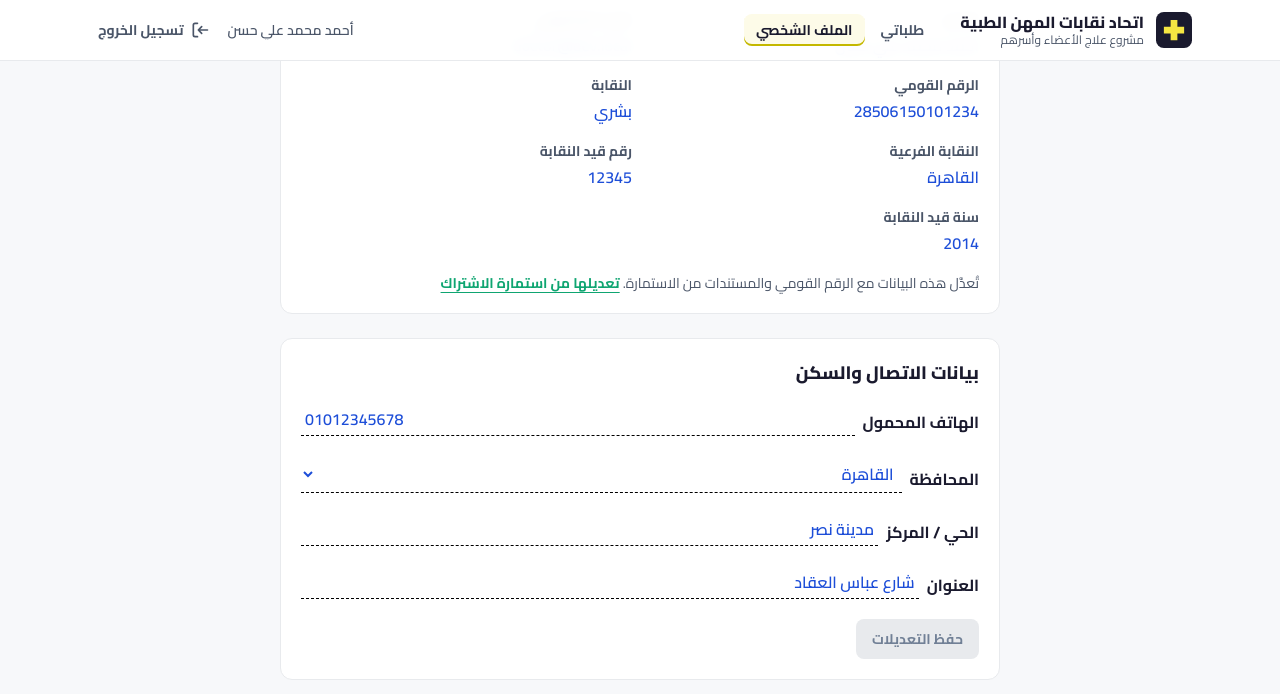
Test: ProfilePage › explains a locked profile (submitted application) with the server message
This screenshot has width=1280, height=694.
(page scrolled)
Type " أول" into the field labelled "الحي / المركز" at [590, 530], box left=301, top=513, right=878, bottom=546
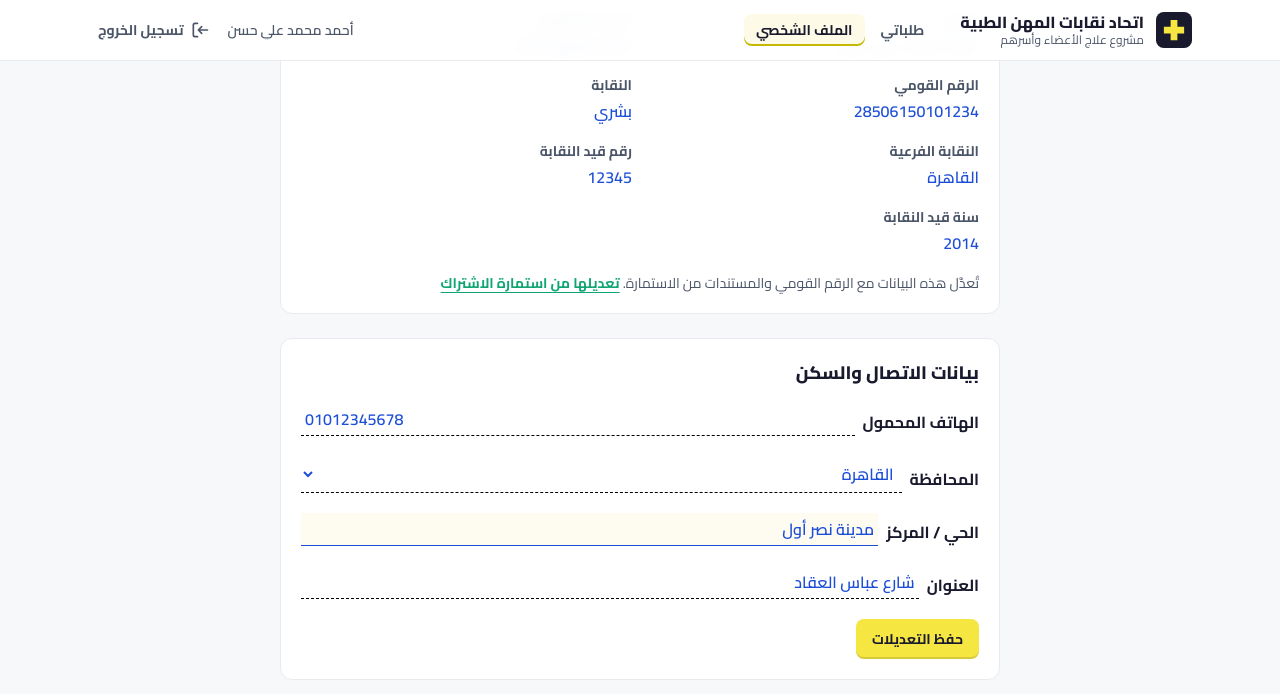
Click the button "حفظ التعديلات" at [918, 639], box left=856, top=619, right=979, bottom=659
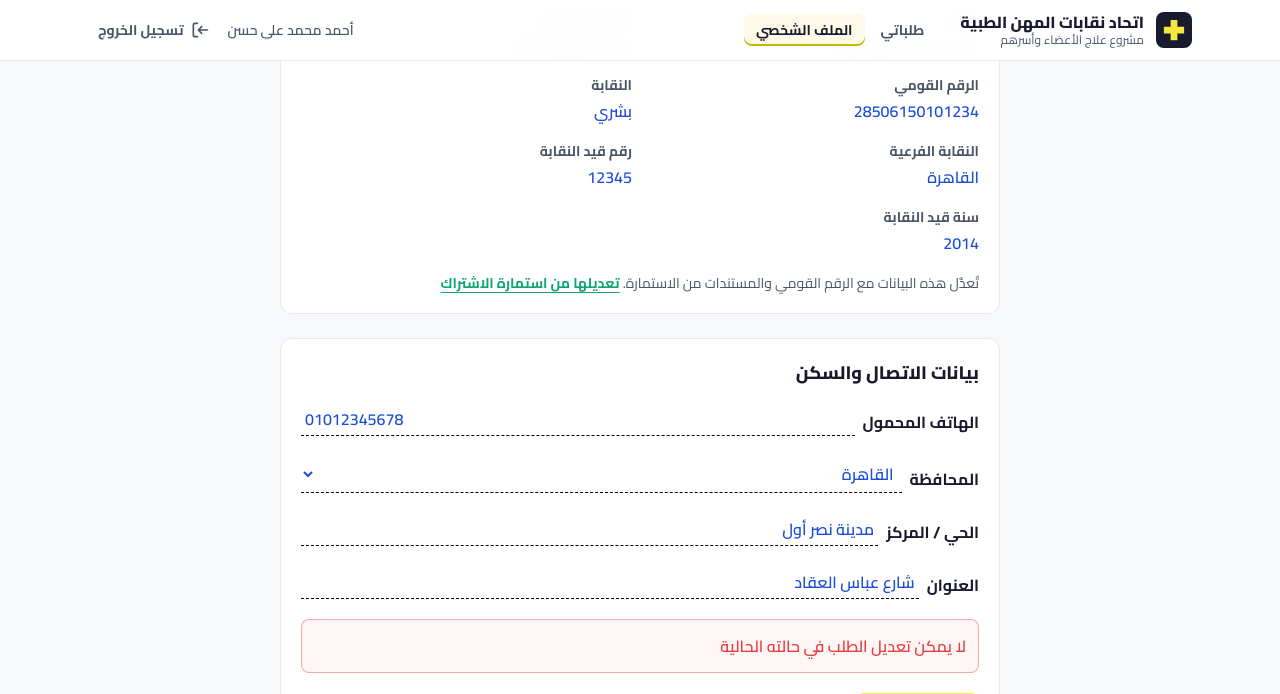
Now the message reads "لا يمكن تعديل الطلب في حالته الحالية", box left=720, top=631, right=966, bottom=661
